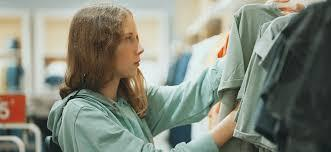shoplifting: (153, 24, 265, 150)
